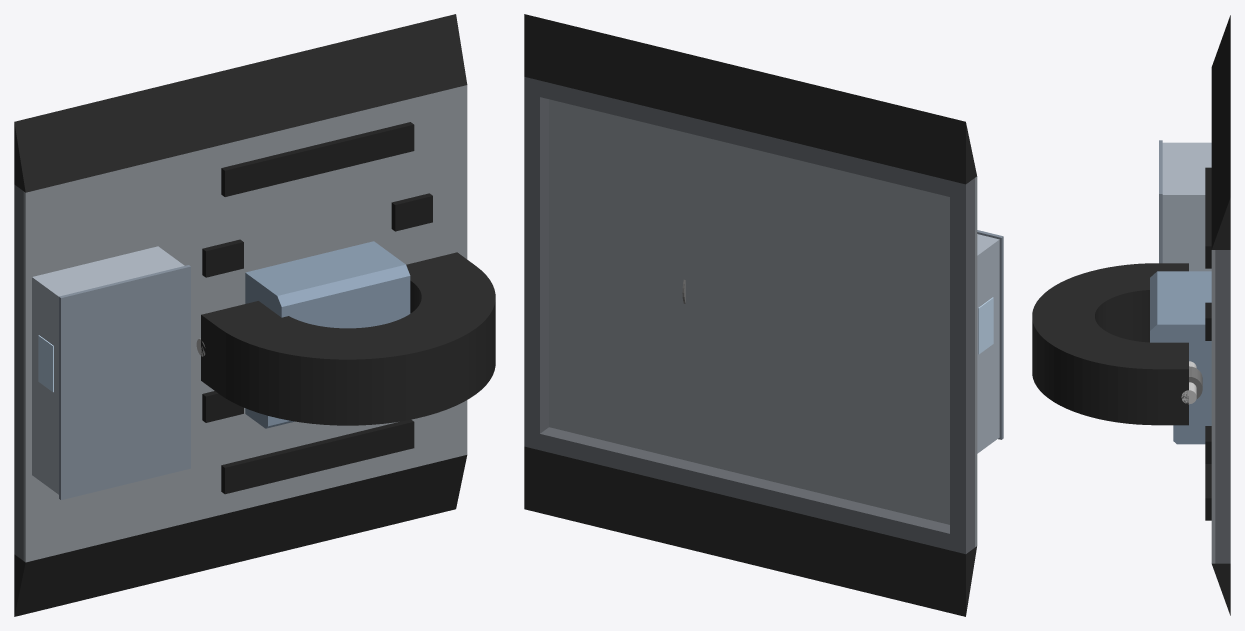
The model's file is PARKFNB_V2_Assembly_3D.obj.
The picture shows the model from 3 angles, left to right: view 1: azimuth 30°, elevation 25°; view 2: azimuth 150°, elevation 25°; view 3: azimuth 270°, elevation 25°; orthographic projection. The views are drawn at different scales.
Visible parts, largest first — view 1: deck, rubber_ramp, arch_tyre, elec_box_lid, rest_block, drive_cover, elec_box, frame, rf_window; view 2: deck, rubber_ramp, frame, elec_box, elec_box_lid, rf_window; view 3: arch_tyre, drive_cover, elec_box, frame, rubber_ramp, rest_block, deck, elec_box_lid, arch_bracket.
Part boxes in pixels (bbox=[...]): deck: bbox=[23, 85, 467, 562]; rubber_ramp: bbox=[14, 14, 467, 616]; arch_tyre: bbox=[201, 252, 495, 425]; elec_box_lid: bbox=[59, 265, 190, 499]; rest_block: bbox=[202, 122, 432, 494]; drive_cover: bbox=[245, 241, 410, 428]; elec_box: bbox=[32, 246, 184, 494]; frame: bbox=[14, 184, 23, 560]; rf_window: bbox=[38, 335, 53, 392]; deck: bbox=[549, 99, 977, 547]; rubber_ramp: bbox=[524, 14, 976, 616]; frame: bbox=[524, 77, 974, 554]; elec_box: bbox=[977, 234, 999, 453]; elec_box_lid: bbox=[977, 230, 1003, 439]; rf_window: bbox=[978, 297, 993, 354]; arch_tyre: bbox=[1032, 263, 1188, 425]; drive_cover: bbox=[1150, 271, 1211, 444]; elec_box: bbox=[1162, 142, 1211, 271]; frame: bbox=[1215, 250, 1230, 563]; rubber_ramp: bbox=[1211, 15, 1230, 615]; rest_block: bbox=[1205, 167, 1211, 520]; deck: bbox=[1211, 250, 1215, 563]; elec_box_lid: bbox=[1159, 140, 1162, 263]; arch_bracket: bbox=[1189, 366, 1202, 399].
Size of the model in its own units: 700 by 750 by 321.
